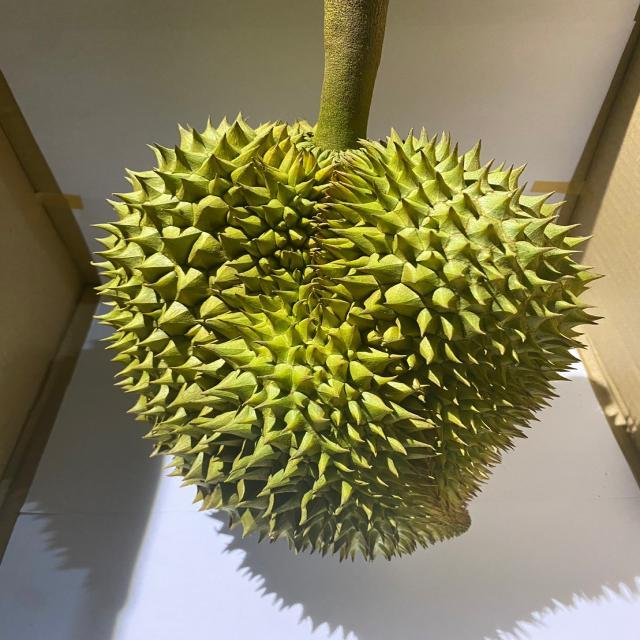immature: (93, 113, 610, 559)
